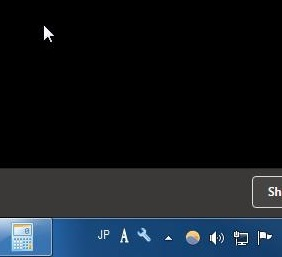cursor: (41, 23, 56, 44)
